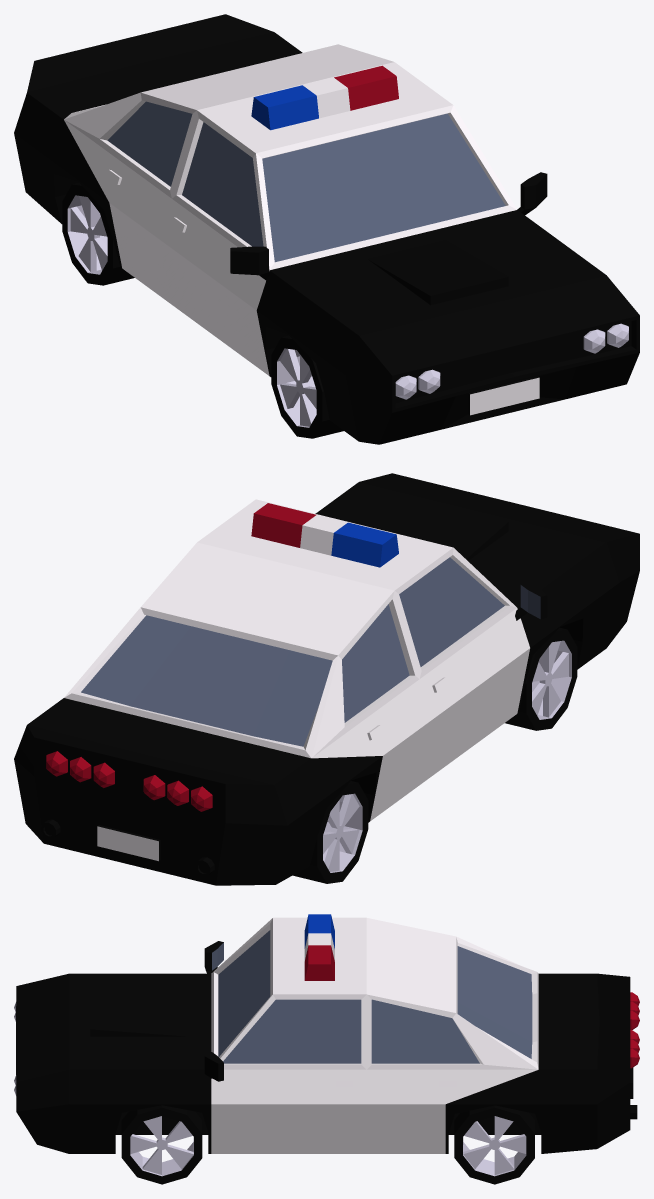
The model's file is Police Muscle.glb.
3 views of the same model, one above another, from view 1: azimuth 30°, elevation 25°; view 2: azimuth 150°, elevation 25°; view 3: azimuth 270°, elevation 25° (orthographic). The views are drawn at different scales.
Visible parts, largest first — view 1: Police Muscle; view 2: Police Muscle; view 3: Police Muscle.
Boxes of the visible parts, left/top/right/bottom form: Police Muscle: left=14, top=14, right=639, bottom=444; Police Muscle: left=14, top=473, right=639, bottom=885; Police Muscle: left=14, top=914, right=639, bottom=1184.
Size of the model in its own units: 0.6168 by 0.458 by 1.33.
